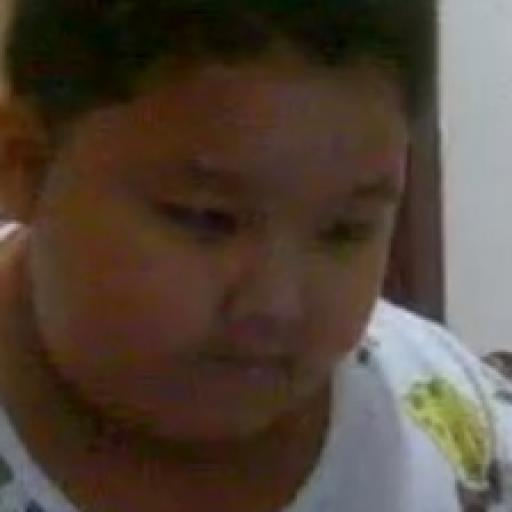Autism: (3, 0, 445, 457)
